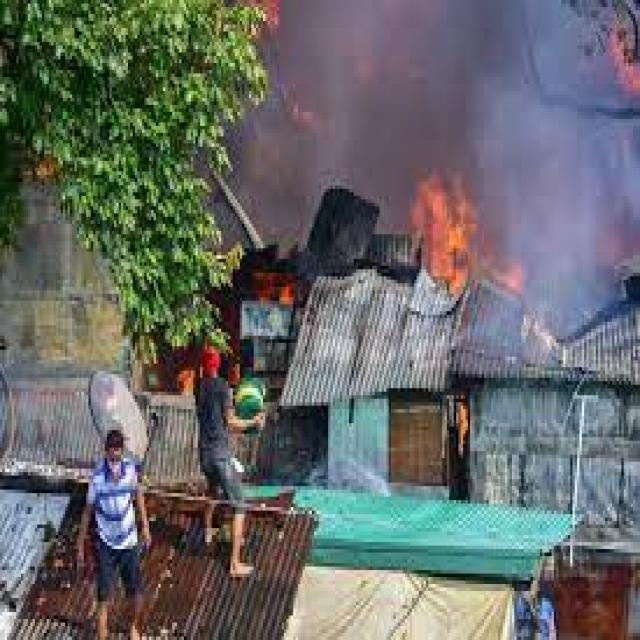Fire: (423, 184, 481, 306)
Smoke: (286, 8, 634, 180), (496, 190, 618, 310)
